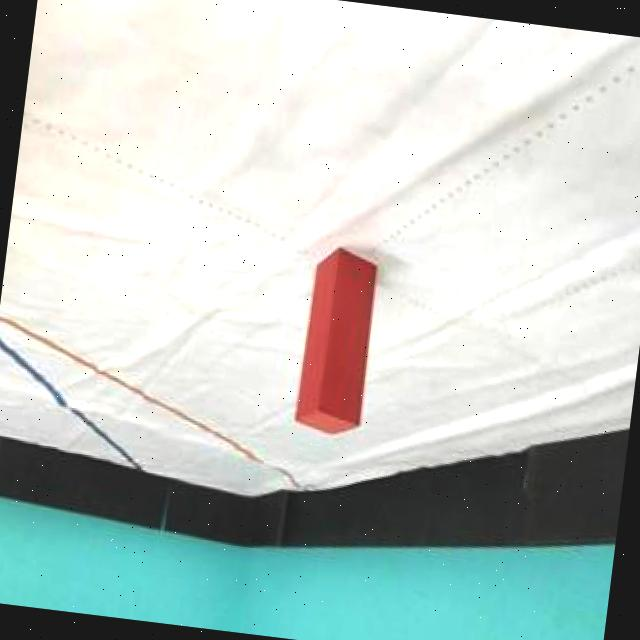redbox: (292, 245, 384, 440)
